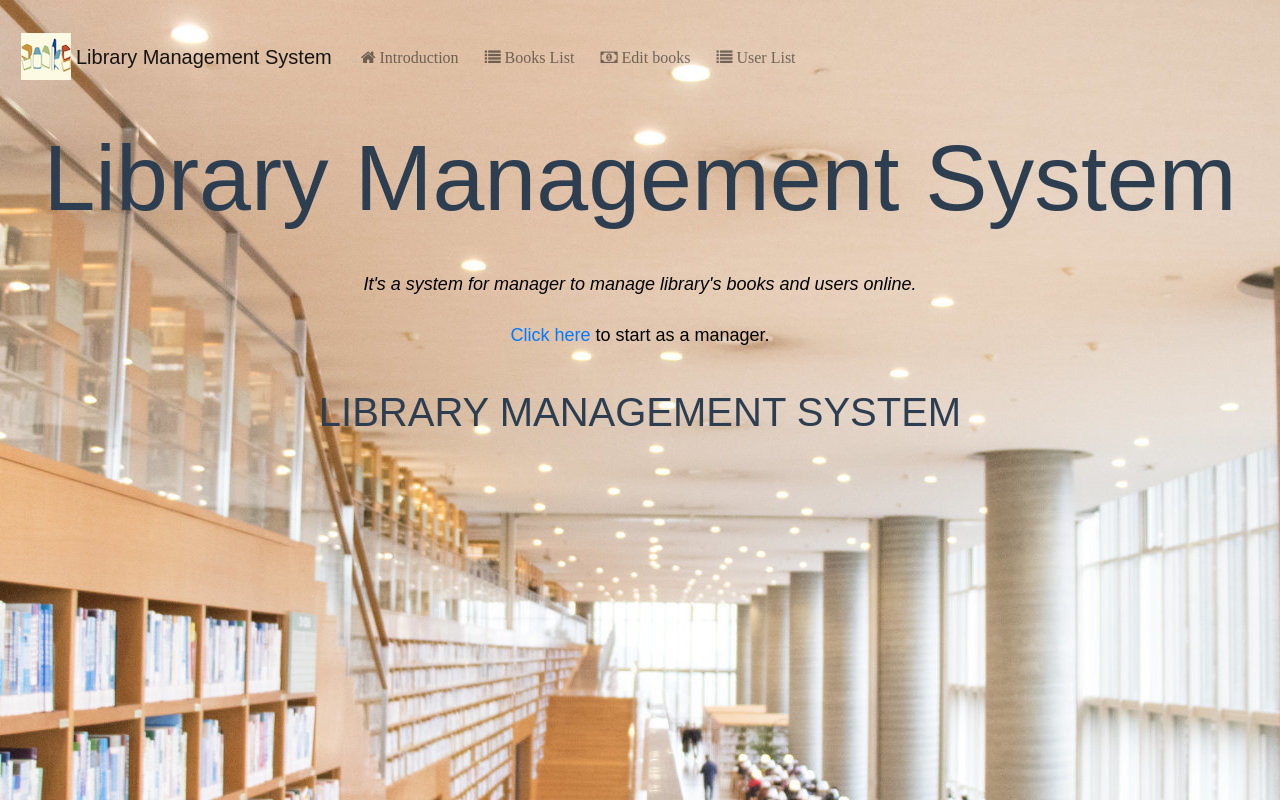
Test: AddBook page › allows a valid book to be submitted
This screenshot has width=1280, height=800.
Click the list item with class "nav-item" showing "Edit books": (655, 57) [618, 49, 691, 65]
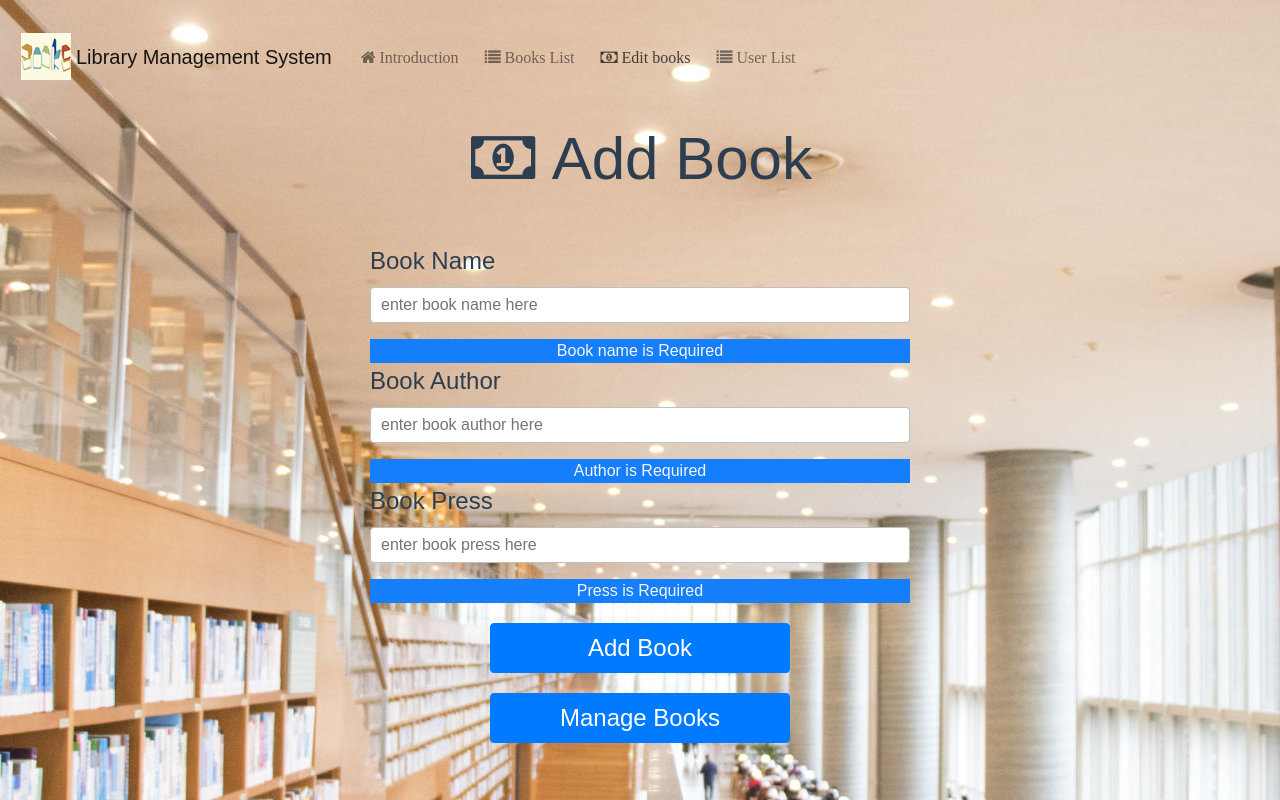
In the field with placeholder "enter book name here": (640, 305) [370, 287, 910, 323], type "HappyBook"
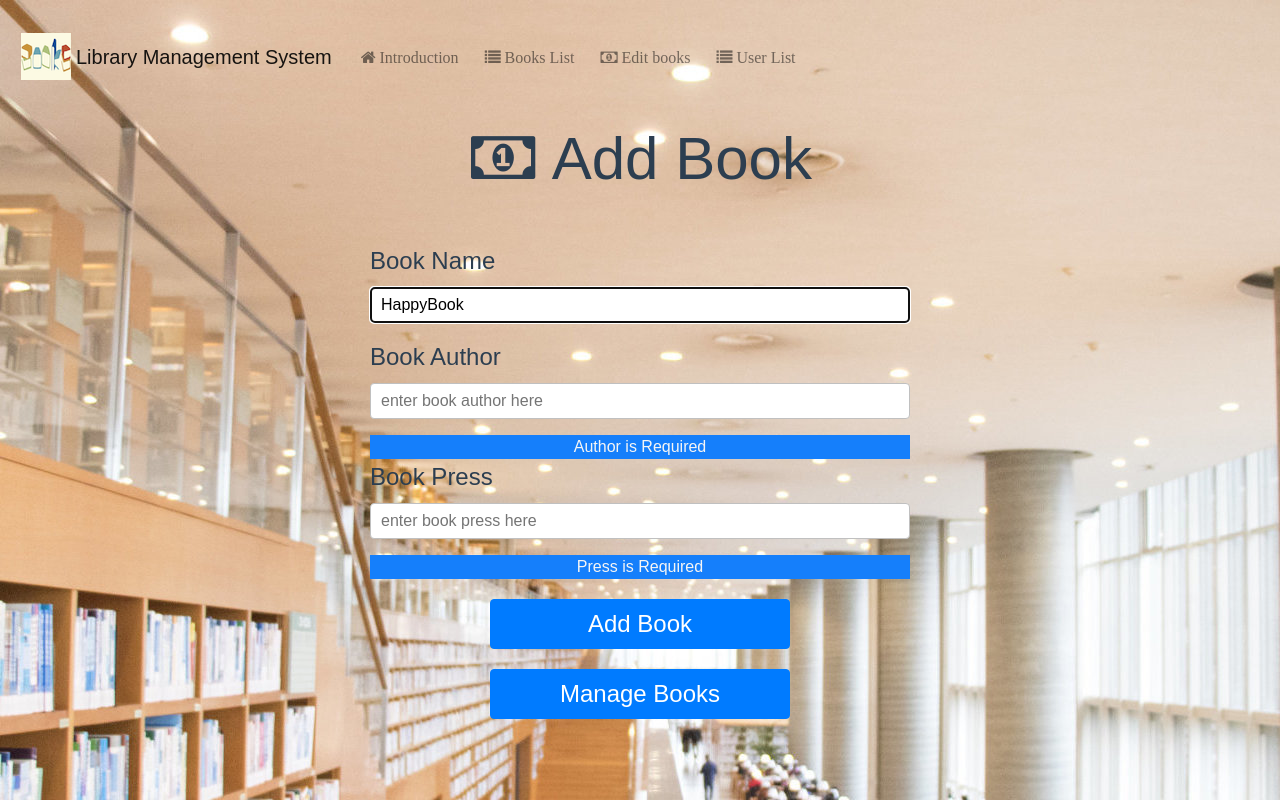
In the field with placeholder "enter book author here": (640, 401) [370, 383, 910, 419], type "HappyPerson"
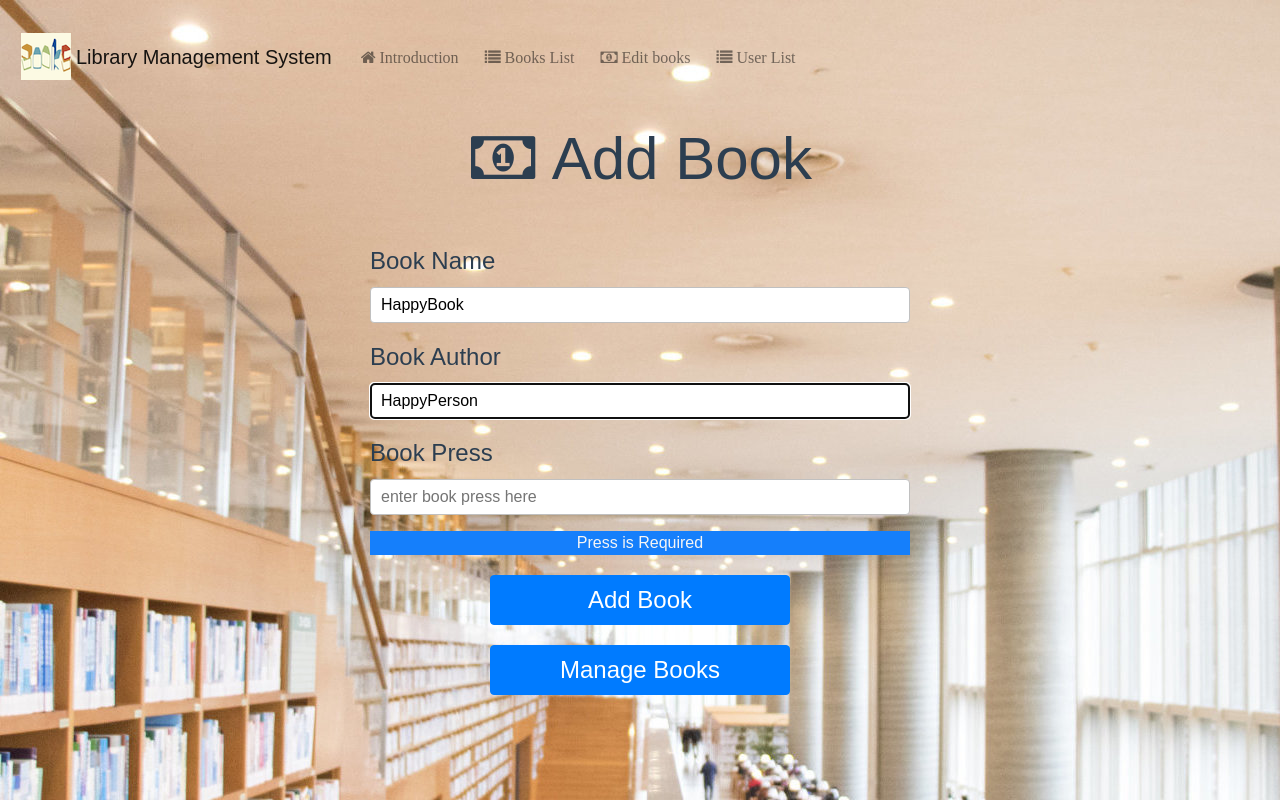
In the field with placeholder "enter book press here": (640, 497) [370, 479, 910, 515], type "HappyPress"
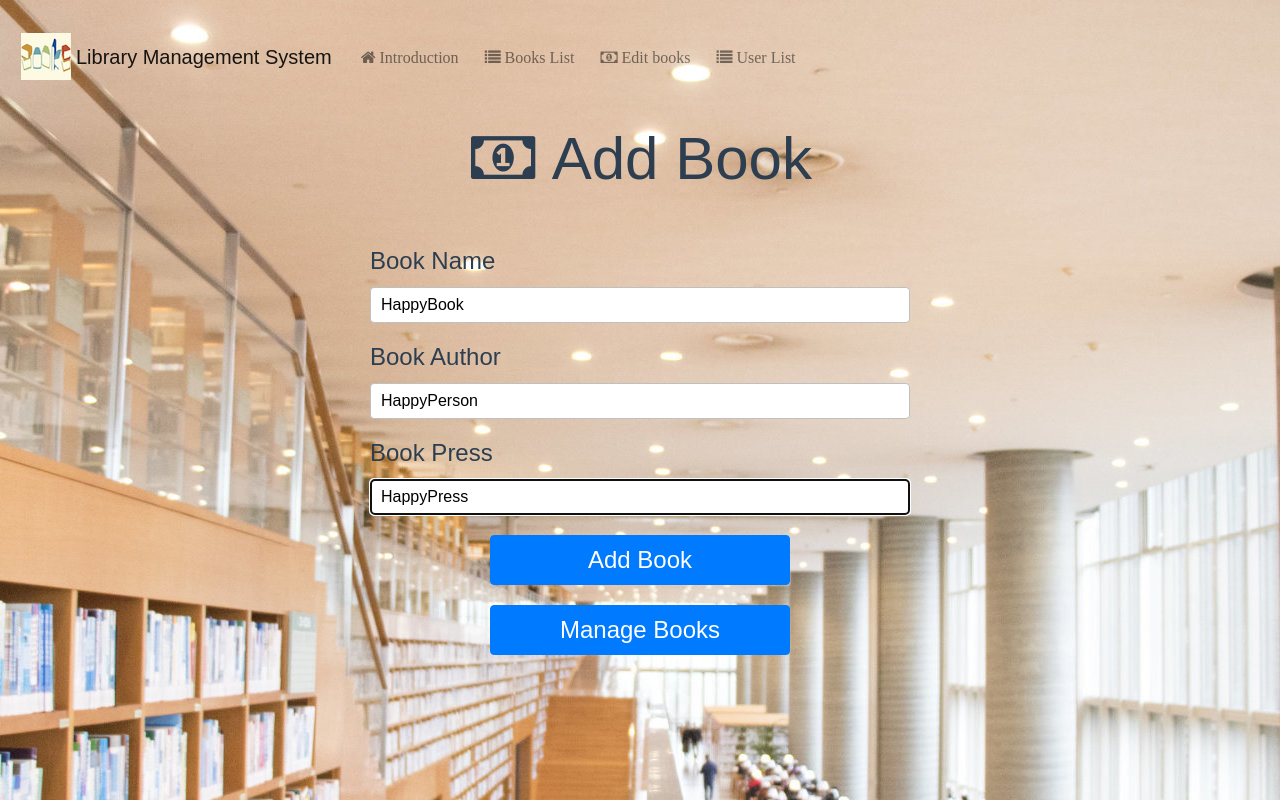
Expected: the text "Successfully added!" is not shown
Now the text with class "error" is gone
Click the submit button: (640, 560) [490, 535, 790, 585]
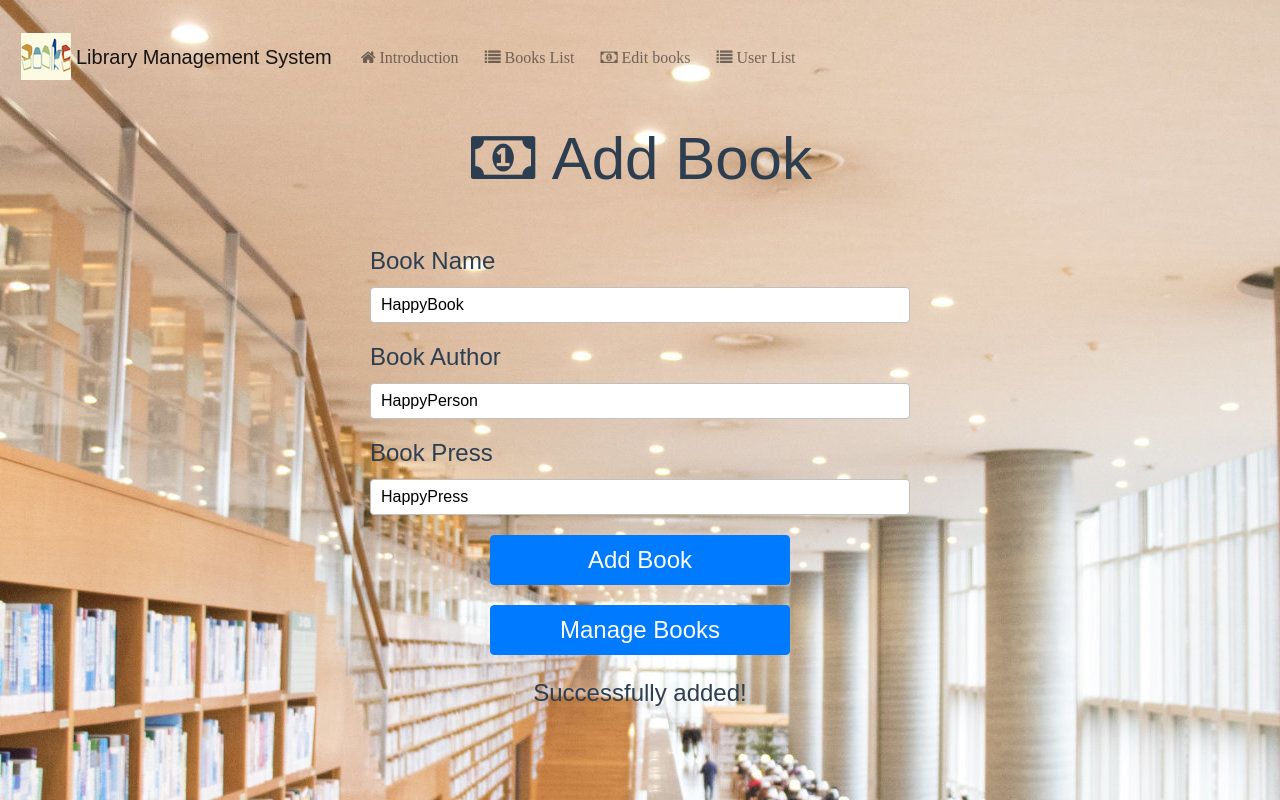
Now the text "Successfully added!" is shown, box [533, 679, 747, 706]
